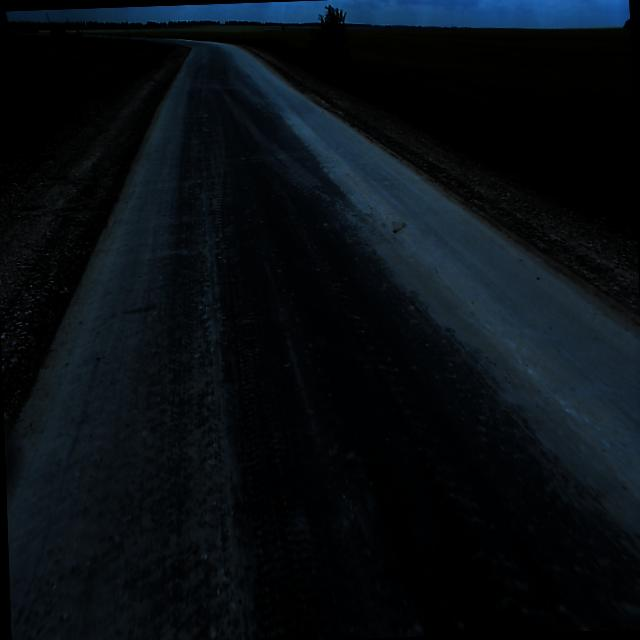road: (4, 37, 640, 640)
